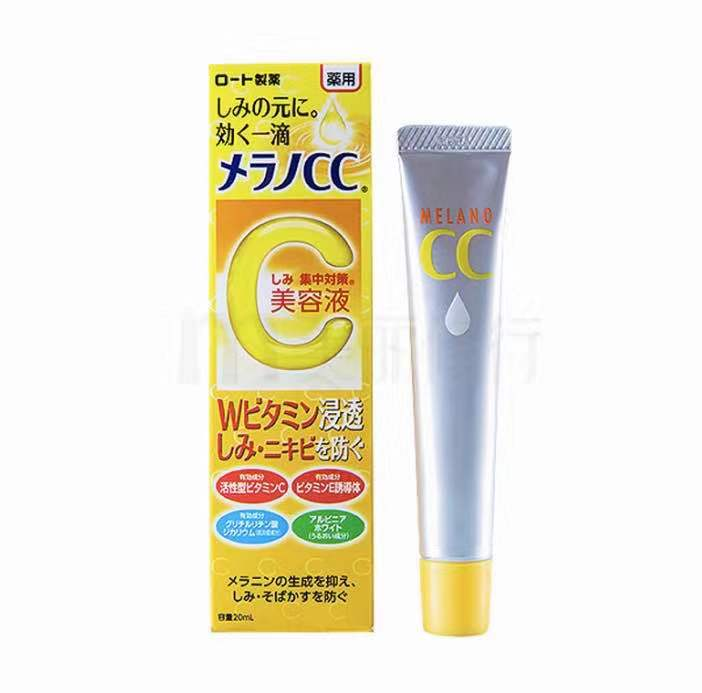cosmetic: (392, 126, 511, 636)
